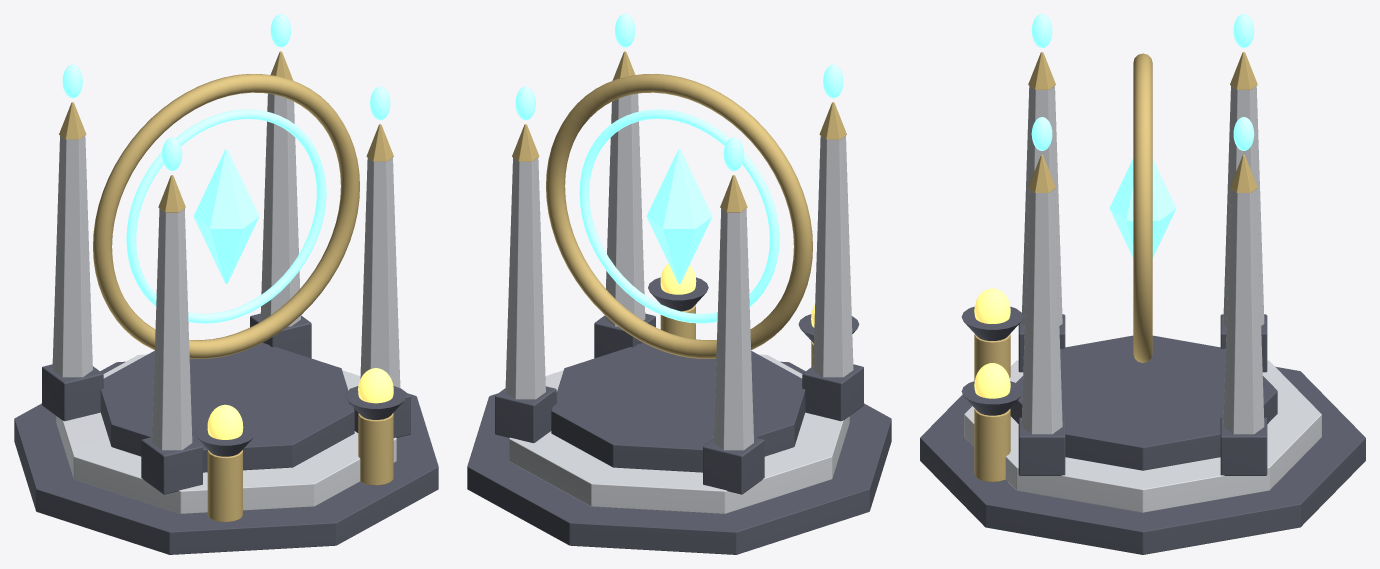
Rendered from arcane_portal_sanctum_v9.glb.
The picture shows the model from 3 angles, left to right: view 1: azimuth 30°, elevation 25°; view 2: azimuth 150°, elevation 25°; view 3: azimuth 270°, elevation 25°; orthographic projection.
Parts seen in each view (by area): view 1: GEO_OctagonDaisTier1, GEO_OctagonDaisTier3, GEO_PortalOuterOrichalcumRing, GEO_OctagonDaisTier2, GEO_ObeliskShaft.001, GEO_ObeliskShaft.003, GEO_ObeliskShaft.002, GEO_ObeliskShaft, GEO_PortalInnerManaRing, GEO_PortalCrystalUpper, GEO_ObeliskPlinth.003, GEO_ObeliskPlinth.001 (+16 smaller); view 2: GEO_OctagonDaisTier1, GEO_OctagonDaisTier3, GEO_PortalOuterOrichalcumRing, GEO_OctagonDaisTier2, GEO_ObeliskShaft, GEO_ObeliskShaft.001, GEO_ObeliskShaft.003, GEO_ObeliskShaft.002, GEO_PortalInnerManaRing, GEO_PortalCrystalUpper, GEO_ObeliskPlinth.001, GEO_ObeliskPlinth.003 (+13 smaller); view 3: GEO_OctagonDaisTier1, GEO_OctagonDaisTier3, GEO_OctagonDaisTier2, GEO_ObeliskShaft, GEO_ObeliskShaft.002, GEO_PortalOuterOrichalcumRing, GEO_ObeliskShaft.001, GEO_ObeliskShaft.003, GEO_SanctumBrazierStand.001, GEO_ObeliskPlinth, GEO_ObeliskPlinth.002, GEO_PortalCrystalUpper (+15 smaller).
Boxes of the visible parts, box(x1,y1,x2,y2) form: GEO_OctagonDaisTier1: box(14, 361, 438, 554); GEO_OctagonDaisTier3: box(100, 342, 354, 472); GEO_PortalOuterOrichalcumRing: box(93, 74, 359, 358); GEO_OctagonDaisTier2: box(56, 354, 396, 513); GEO_ObeliskShaft.001: box(52, 136, 92, 377); GEO_ObeliskShaft.003: box(152, 208, 192, 450); GEO_ObeliskShaft.002: box(360, 157, 400, 388); GEO_ObeliskShaft: box(260, 93, 300, 326); GEO_PortalInnerManaRing: box(126, 109, 326, 323); GEO_PortalCrystalUpper: box(193, 149, 259, 228); GEO_ObeliskPlinth.003: box(141, 437, 202, 494); GEO_ObeliskPlinth.001: box(42, 364, 103, 421); GEO_OctagonDaisTier1: box(467, 361, 891, 554); GEO_OctagonDaisTier3: box(551, 342, 805, 472); GEO_PortalOuterOrichalcumRing: box(546, 74, 812, 358); GEO_OctagonDaisTier2: box(509, 354, 849, 513); GEO_ObeliskShaft: box(505, 157, 545, 399); GEO_ObeliskShaft.001: box(713, 208, 753, 450); GEO_ObeliskShaft.003: box(813, 136, 853, 377); GEO_ObeliskShaft.002: box(605, 93, 645, 326); GEO_PortalInnerManaRing: box(579, 109, 779, 323); GEO_PortalCrystalUpper: box(646, 149, 712, 228); GEO_ObeliskPlinth.001: box(703, 437, 764, 494); GEO_ObeliskPlinth.003: box(802, 364, 863, 421); GEO_OctagonDaisTier1: box(920, 366, 1365, 554); GEO_OctagonDaisTier3: box(1010, 335, 1277, 470); GEO_OctagonDaisTier2: box(964, 360, 1321, 512); GEO_ObeliskShaft: box(1223, 189, 1264, 434); GEO_ObeliskShaft.002: box(1021, 189, 1062, 434); GEO_PortalOuterOrichalcumRing: box(1133, 53, 1152, 362); GEO_ObeliskShaft.001: box(1223, 86, 1264, 325); GEO_ObeliskShaft.003: box(1021, 86, 1062, 325); GEO_SanctumBrazierStand.001: box(974, 409, 1010, 482); GEO_ObeliskPlinth: box(1220, 417, 1267, 475); GEO_ObeliskPlinth.002: box(1018, 417, 1065, 475); GEO_PortalCrystalUpper: box(1109, 158, 1176, 220).
Size of the model in its own units: 3.44 by 3.36 by 3.44.
